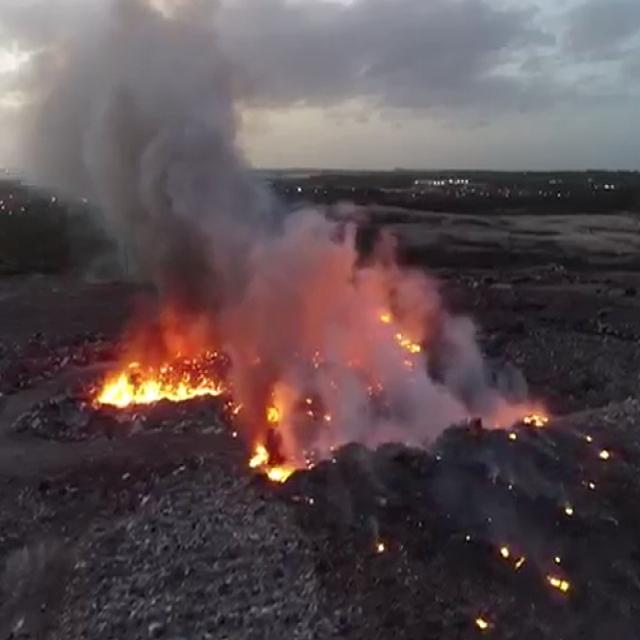Fire: (100, 351, 226, 416), (246, 434, 300, 496)
Smoke: (37, 0, 475, 439)
